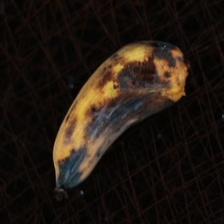banana: (33, 1, 201, 188)
